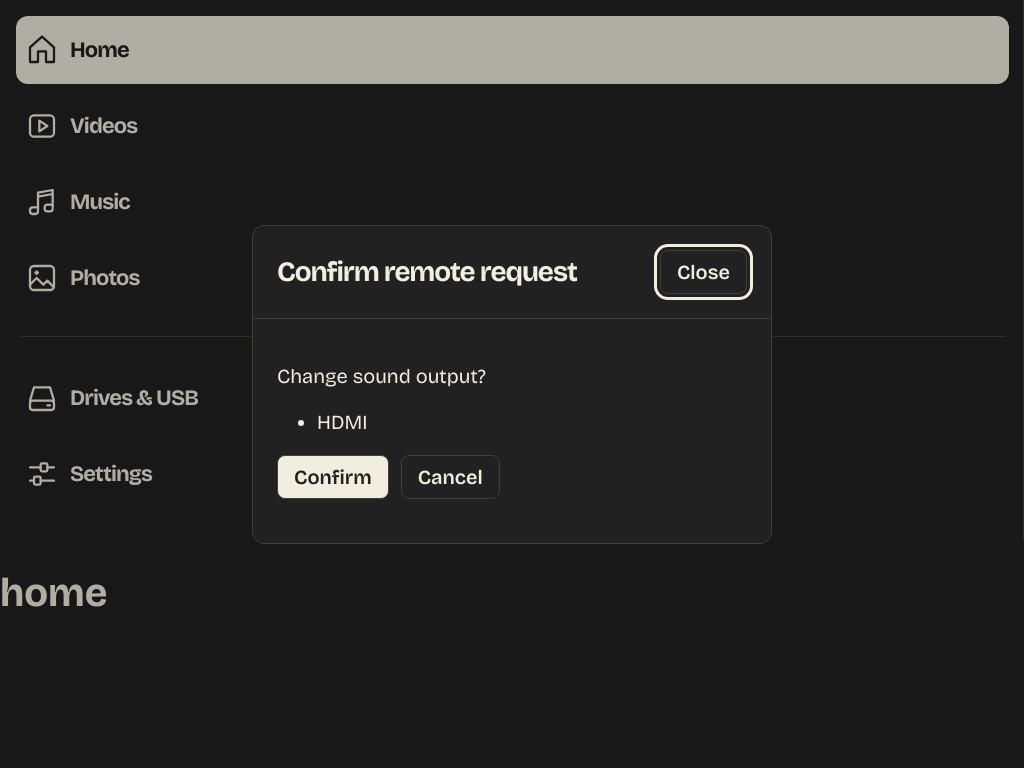
Test: shares the server ID and closes desktop presentation after native resolution
Check: the dialog is shown, box 252,224 -> 772,544
What coordinates should you click on to do the following:
click the button "Confirm"
I would click on:
 (333, 476)
Its box is 277,454 -> 389,498.
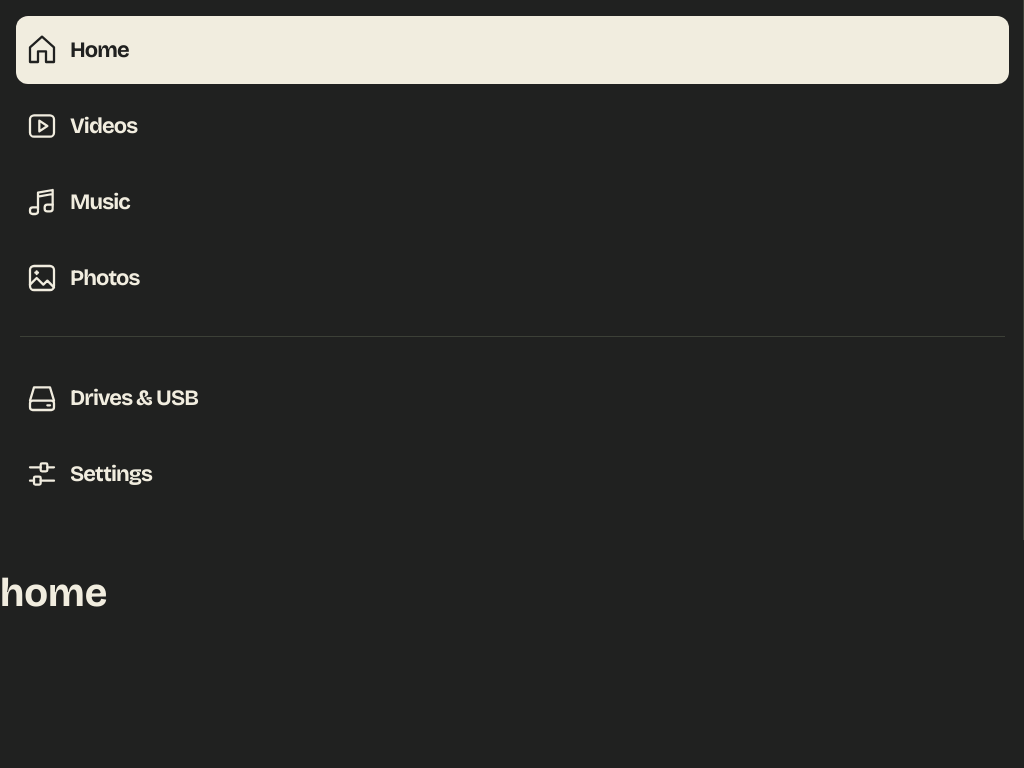
Check: the dialog is gone
